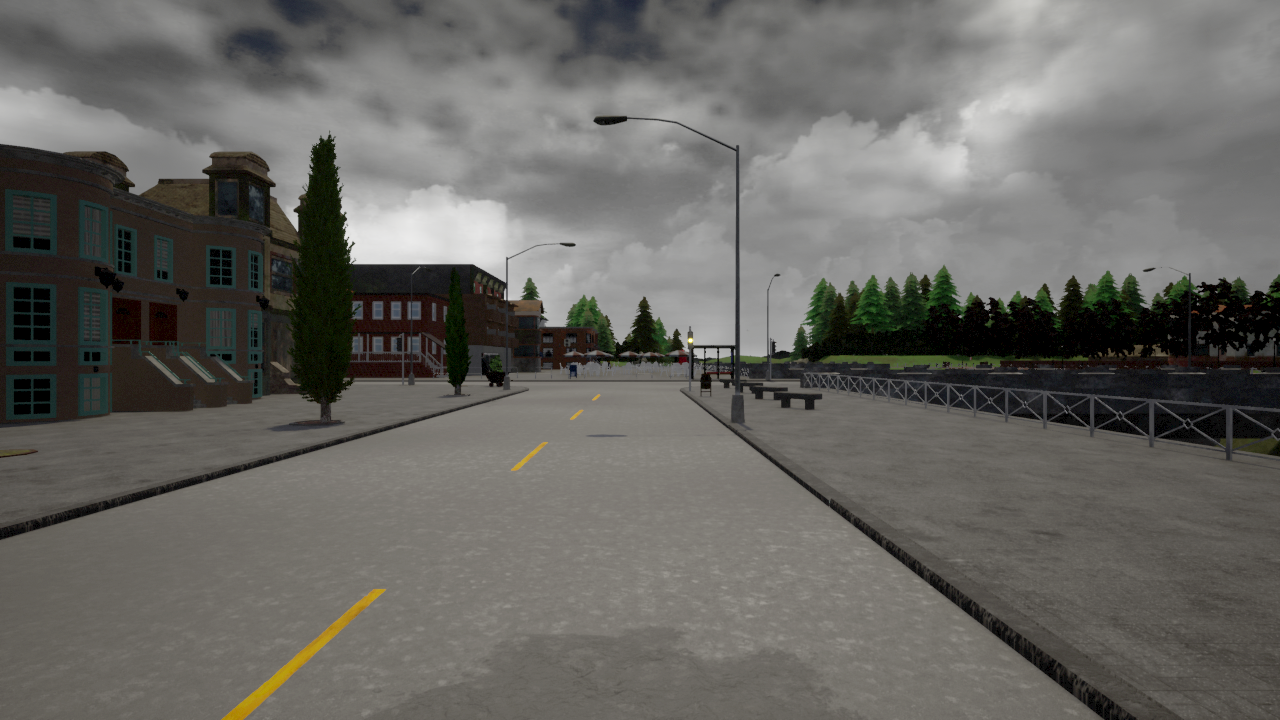yellow: (686, 331, 694, 351)
